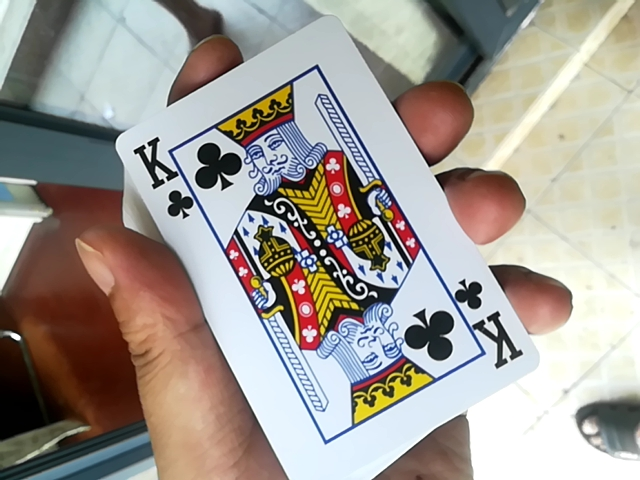mh k: (84, 5, 545, 473)
